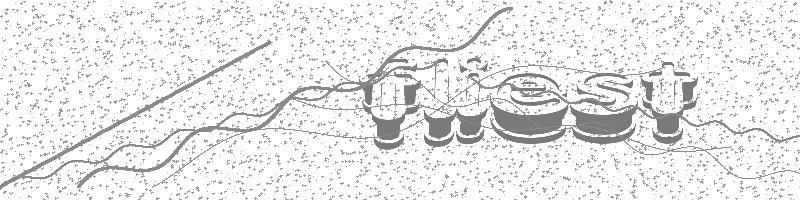e: (488, 71, 567, 143)
f: (361, 56, 421, 152)
i: (455, 51, 490, 144)
l: (421, 57, 456, 147)
s: (568, 70, 639, 148)
t: (634, 62, 696, 143)
